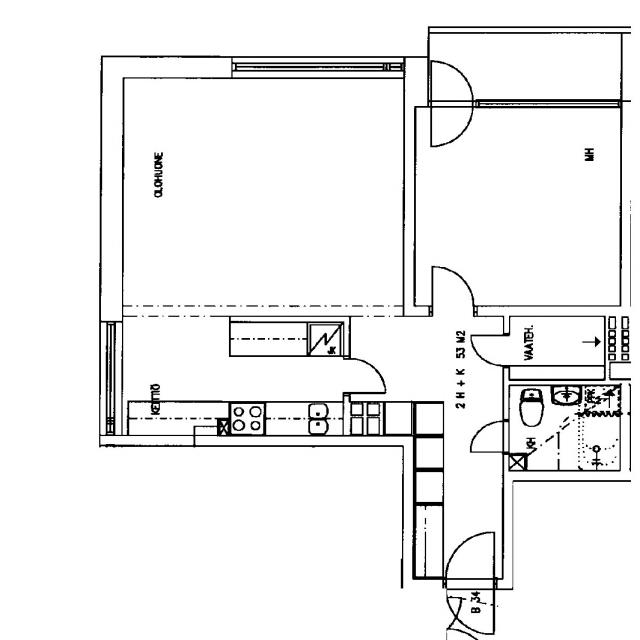door: (446, 533, 494, 589), (446, 579, 494, 634), (432, 266, 474, 316), (431, 98, 472, 146), (431, 59, 472, 107), (343, 359, 387, 393), (469, 421, 510, 452), (472, 334, 509, 364)
